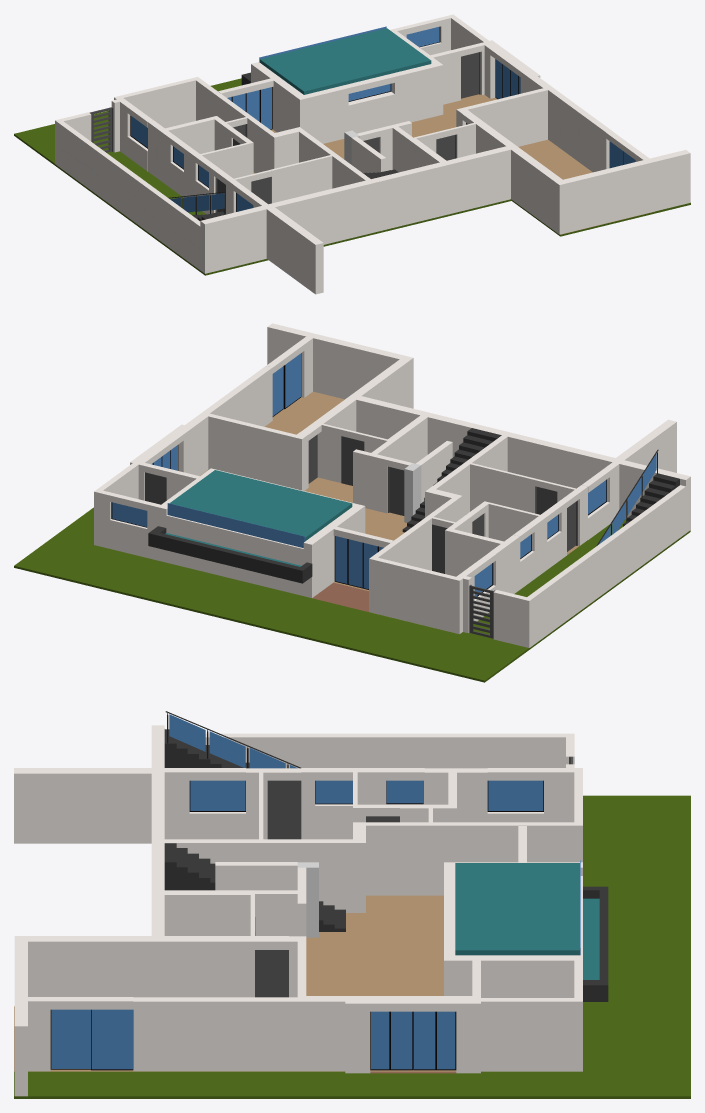
File: BasementFloor.fbx
3 views of the same model, one above another, from view 1: azimuth 30°, elevation 25°; view 2: azimuth 150°, elevation 25°; view 3: azimuth 270°, elevation 25° (orthographic). The views are drawn at different scales.
Visible parts, largest first — view 1: Box001, Box002, Box008, Box057, Swimming_Pool, Box003, Box007, Box004, Box006, Box086, Box073, Box095; view 2: Box001, Box057, Box002, Box008, Swimming_Pool, Box004, Box003, Box007, Box031, zp, Box104, Box006 (+11 smaller); view 3: Box001, Box057, Box008, Swimming_Pool, Box007, Box002, Box004, Box003, Box104, Box089, Box090, Box061 (+17 smaller).
Boxes of the visible parts, box(x1,y1,x2,y2) form: Box001: box(55, 77, 690, 294); Box002: box(218, 26, 460, 143); Box008: box(456, 69, 612, 172); Box057: box(14, 78, 690, 275); Swimming_Pool: box(260, 28, 431, 94); Box003: box(148, 116, 247, 187); Box007: box(404, 14, 530, 98); Box004: box(170, 130, 253, 214); Box006: box(214, 169, 272, 214); Box086: box(461, 52, 478, 98); Box073: box(90, 107, 111, 152); Box095: box(406, 26, 439, 46); Box001: box(266, 323, 690, 647); Box057: box(14, 391, 690, 682); Box002: box(110, 468, 393, 597); Box008: box(172, 366, 308, 490); Swimming_Pool: box(169, 470, 352, 541); Box004: box(467, 501, 561, 589); Box003: box(432, 514, 520, 593); Box007: box(94, 431, 183, 548); Box031: box(148, 526, 312, 583); zp: box(167, 503, 304, 547); Box104: box(402, 428, 501, 532); Box006: box(535, 479, 587, 545); Box001: box(14, 725, 582, 1096); Box057: box(14, 795, 690, 1098); Box008: box(133, 936, 370, 1073); Swimming_Pool: box(455, 863, 579, 955); Box007: box(370, 967, 582, 1073); Box002: box(444, 826, 582, 997); Box004: box(315, 768, 424, 839); Box003: box(400, 768, 487, 822); Box104: box(164, 843, 345, 931); Box089: box(91, 1009, 132, 1069); Box090: box(51, 1009, 90, 1068); Box061: box(269, 780, 300, 839).
Size of the model in its own units: 893 by 144 by 849.
